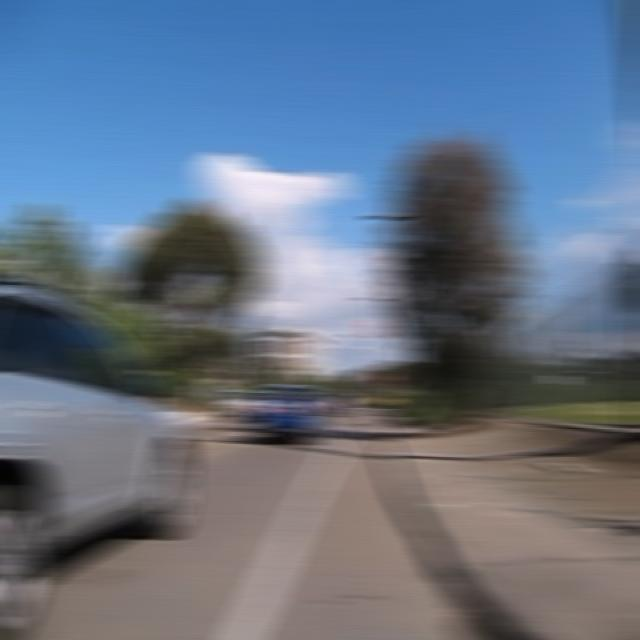stop_sign: (371, 370, 394, 386)
